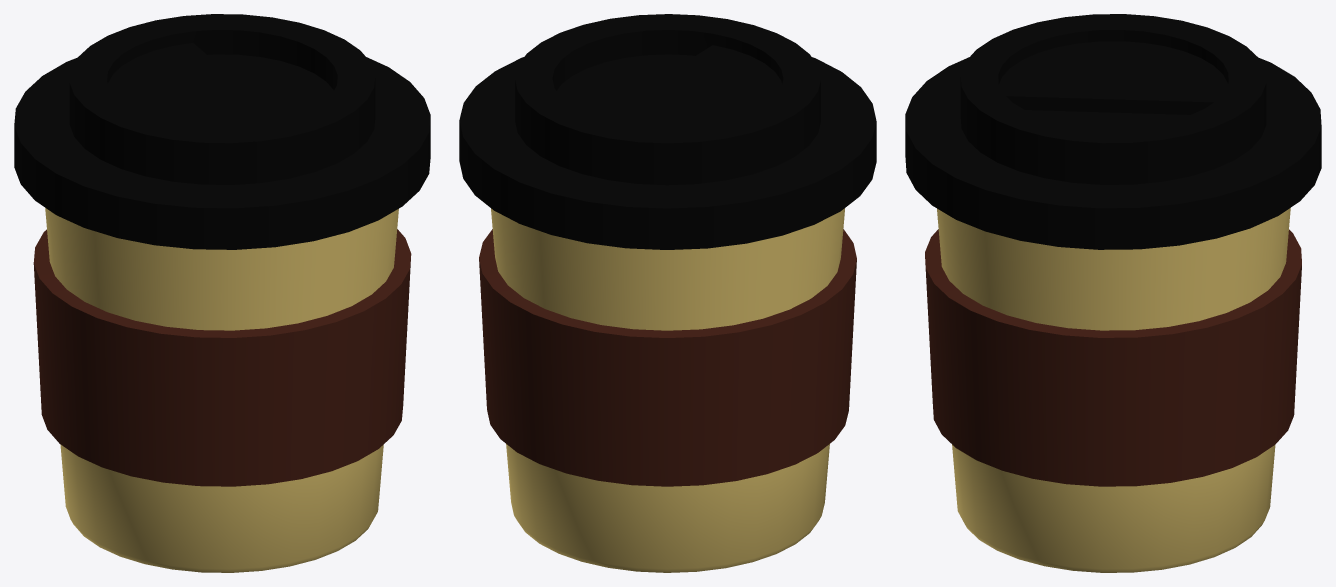
Rendered from CoffeeCup.glb.
3 views of the same model, side by side, from view 1: azimuth 30°, elevation 25°; view 2: azimuth 150°, elevation 25°; view 3: azimuth 270°, elevation 25° (orthographic).
Parts seen in each view (by area): view 1: Cylinder.001; view 2: Cylinder.001; view 3: Cylinder.001.
Boxes of the visible parts, x1,y1,x2,y2 form: Cylinder.001: (14, 14, 430, 572); Cylinder.001: (459, 14, 876, 572); Cylinder.001: (905, 14, 1321, 572).
Bounding box in the file's own units: 1.75 × 2 × 1.75.
